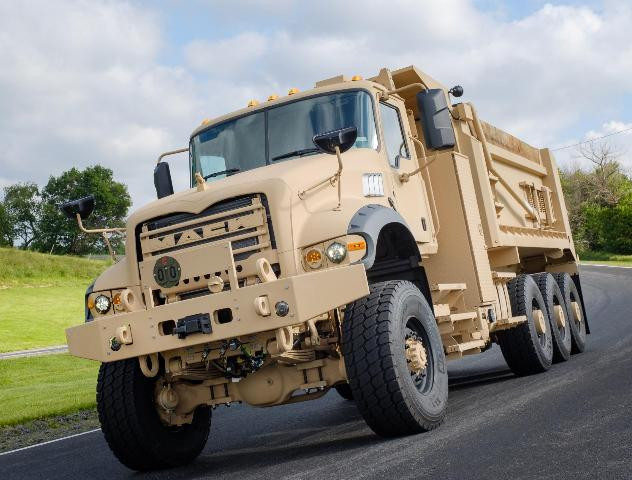truck: (53, 61, 597, 442)
